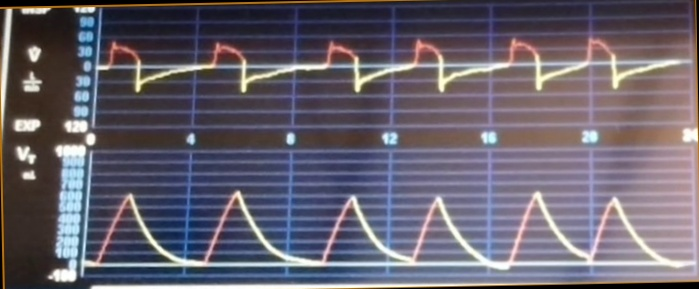Normal Flow: (100, 20, 688, 124)
Normal Volume: (88, 182, 690, 273)
